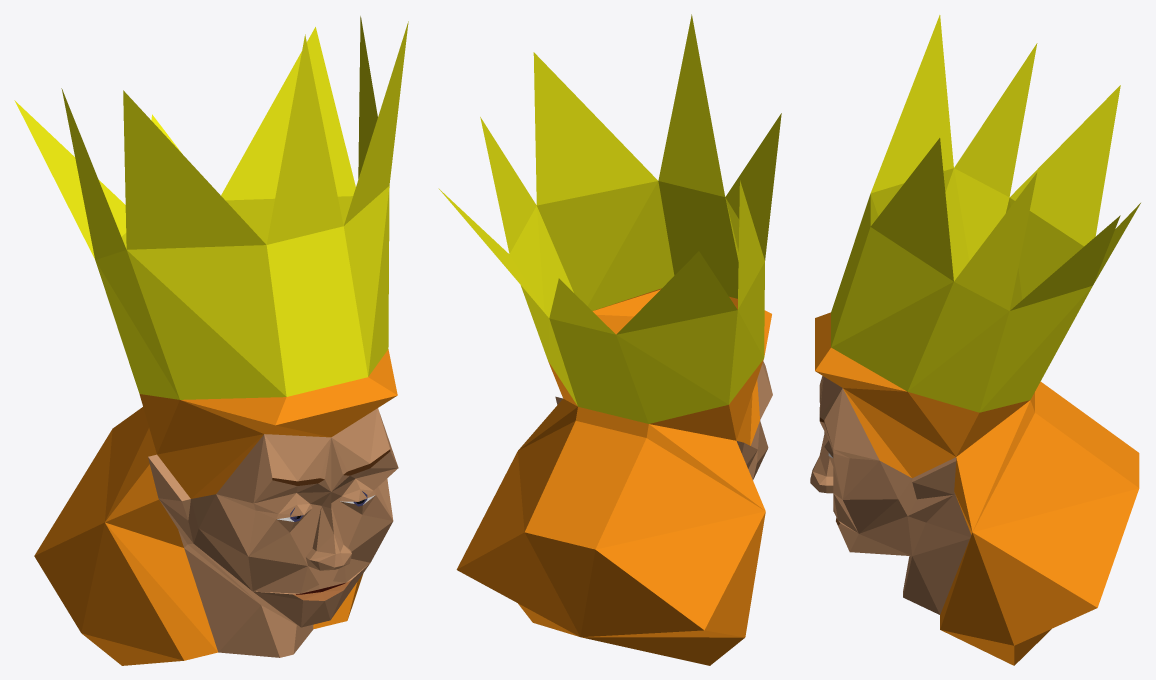
Rendered from model_12_npc_head.obj.
3 renders of one model, left to right at view 1: azimuth 30°, elevation 25°; view 2: azimuth 150°, elevation 25°; view 3: azimuth 270°, elevation 25°, orthographic. The views are drawn at different scales.
Parts seen in each view (by area): view 1: 12; view 2: 12; view 3: 12.
Boxes of the visible parts, x1,y1,x2,y2 form: 12: [14, 16, 408, 665]; 12: [438, 14, 781, 665]; 12: [810, 15, 1140, 665].
Bounding box in the file's own units: 133 × 281 × 143.
